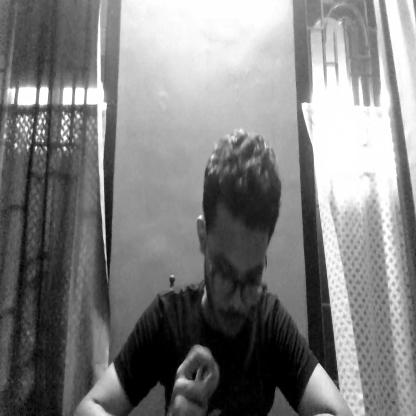Distracted: (196, 134, 273, 335)
